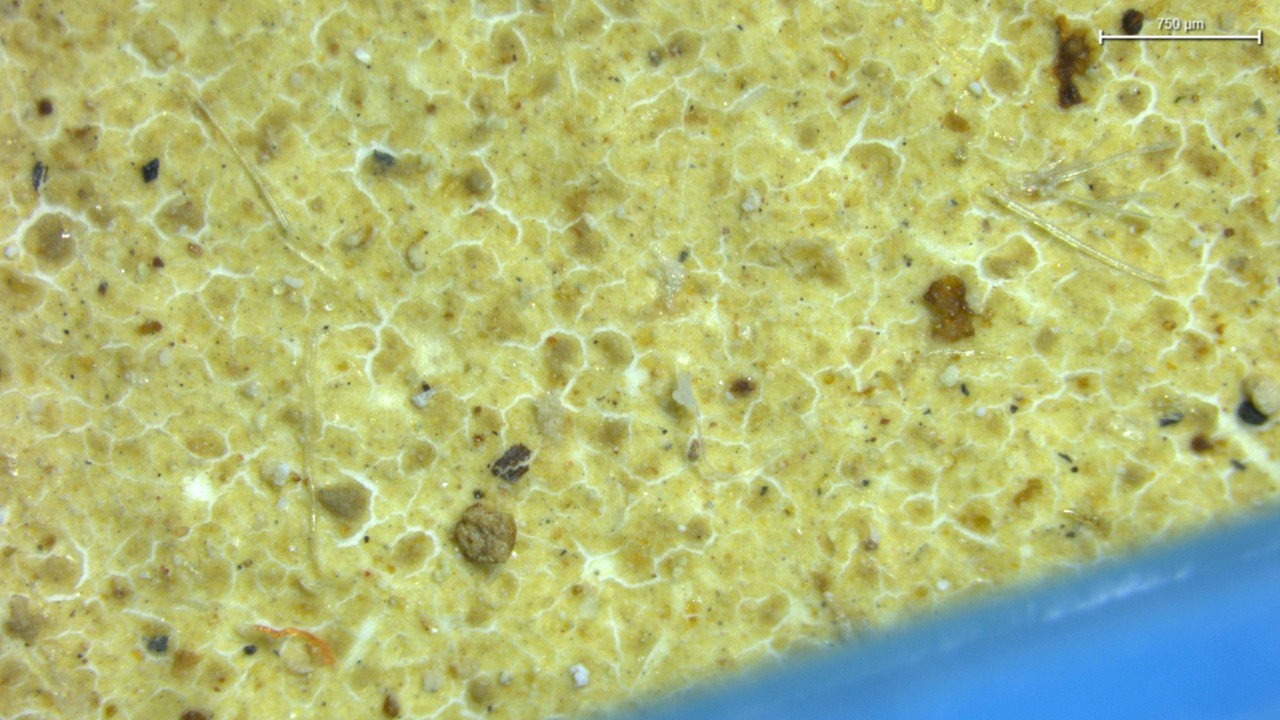microplastic_fragment: (454, 503, 516, 563), (672, 371, 697, 414)
